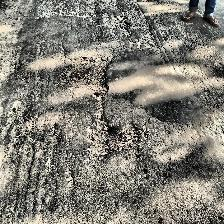pothole: (59, 55, 111, 98), (88, 119, 138, 161)
